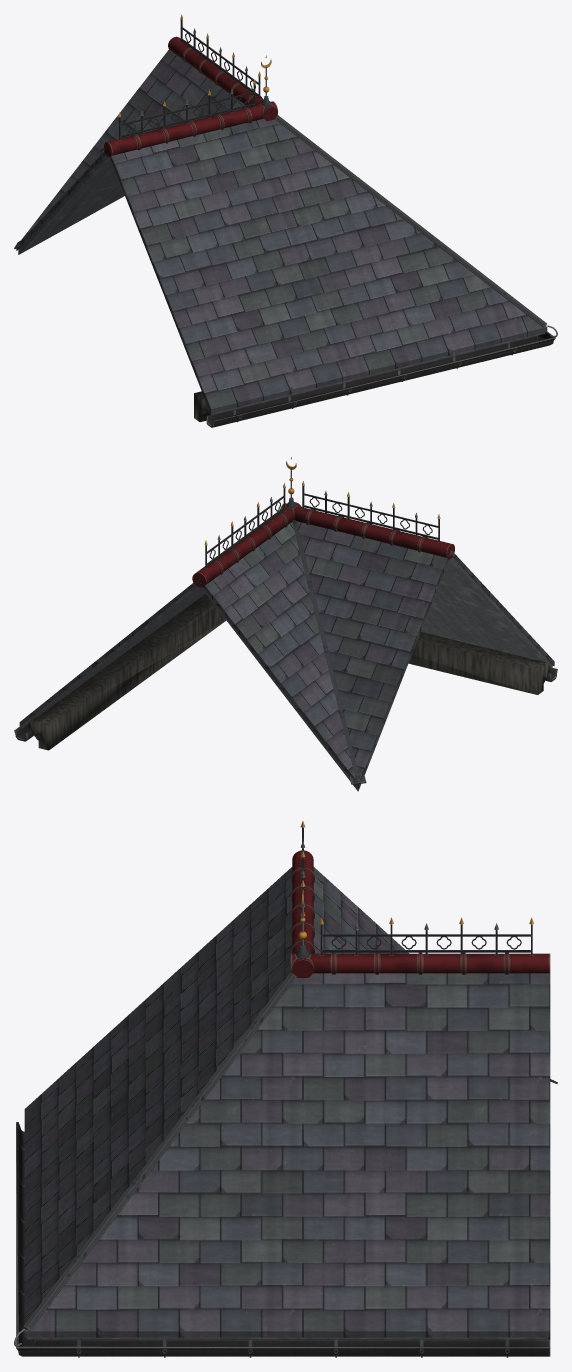
The model's file is RoofCornerL.fbx.
3 renders of one model, top to bottom at view 1: azimuth 30°, elevation 25°; view 2: azimuth 150°, elevation 25°; view 3: azimuth 270°, elevation 25°, orthographic. The views are drawn at different scales.
Parts seen in each view (by area): view 1: RoofCornerL_Slate, RoofCornerL_Main, RoofCornerL_Lead; view 2: RoofCornerL_Slate, RoofCornerL_Main, RoofCornerL_Lead; view 3: RoofCornerL_Slate, RoofCornerL_Main, RoofCornerL_Lead.
Part boxes in pixels (bbox=[...]): RoofCornerL_Slate: bbox=[16, 49, 547, 413]; RoofCornerL_Main: bbox=[14, 14, 557, 427]; RoofCornerL_Lead: bbox=[18, 155, 544, 415]; RoofCornerL_Slate: bbox=[19, 521, 554, 788]; RoofCornerL_Main: bbox=[14, 457, 557, 784]; RoofCornerL_Lead: bbox=[22, 557, 552, 791]; RoofCornerL_Slate: bbox=[24, 867, 550, 1337]; RoofCornerL_Main: bbox=[14, 821, 557, 1357]; RoofCornerL_Lead: bbox=[27, 1337, 548, 1339].
Bounding box in the file's own units: 1320 × 947 × 1320.
